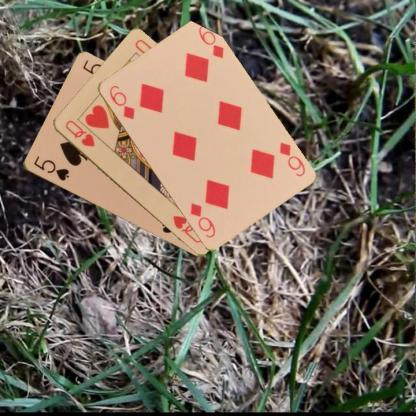5s: (30, 153, 70, 183)
6d: (276, 139, 306, 178), (106, 82, 136, 120)
Qh: (62, 118, 96, 148)
